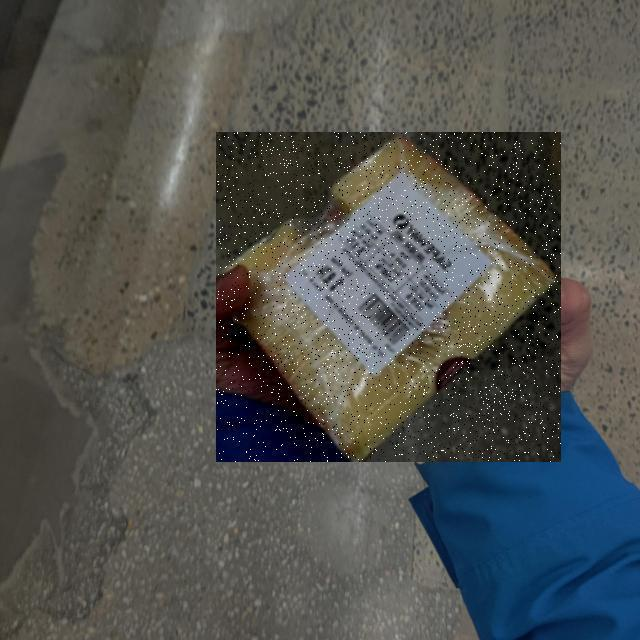Cheese: (216, 132, 561, 462)
